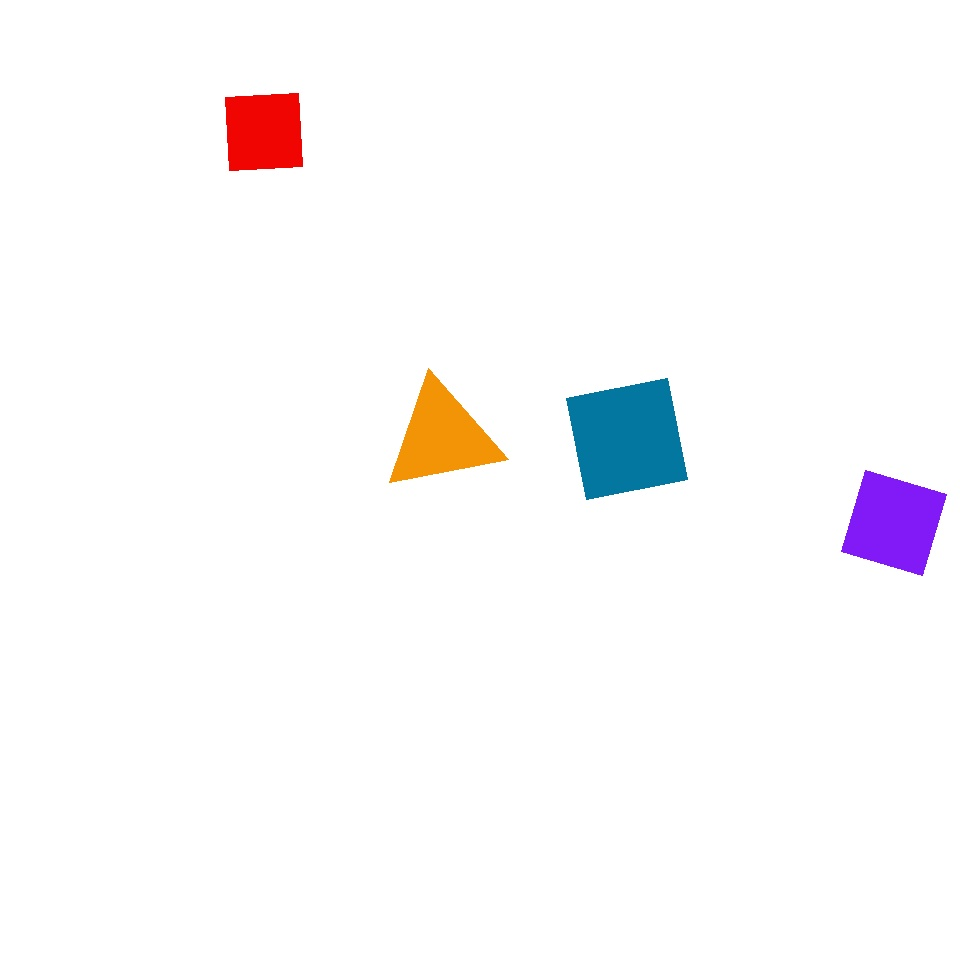circle: (148, 628, 300, 794), (382, 380, 501, 494)
square: (454, 446, 728, 720), (566, 378, 687, 499), (842, 470, 946, 576), (226, 94, 302, 170)
